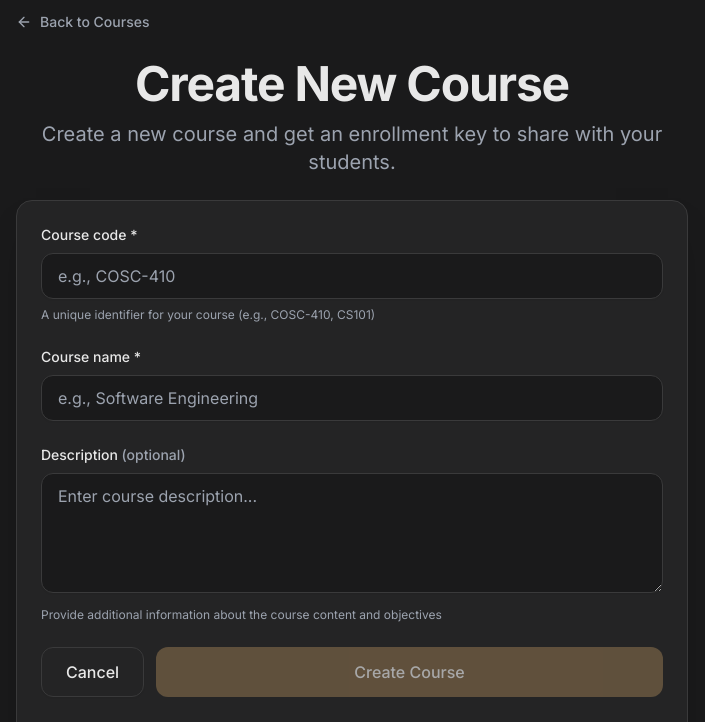
Test: CreateCoursePage › handles API error
The image size is (705, 722).
Type "COSC-300" into the field labelled "Course code *" at x=352, y=276, box x1=41 y1=253 x2=663 y2=299
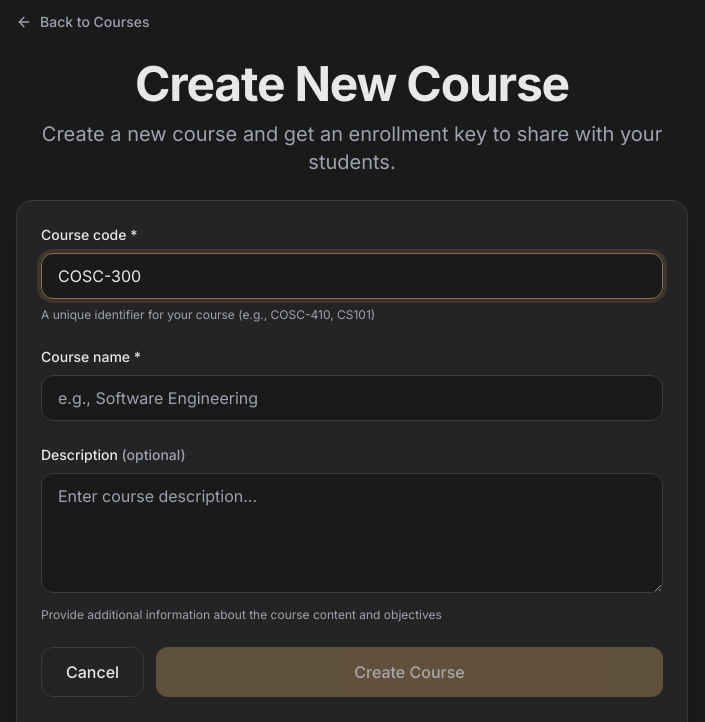
Type "Data Structures" into the field labelled "Course name *" at x=352, y=398, box x1=41 y1=375 x2=663 y2=421
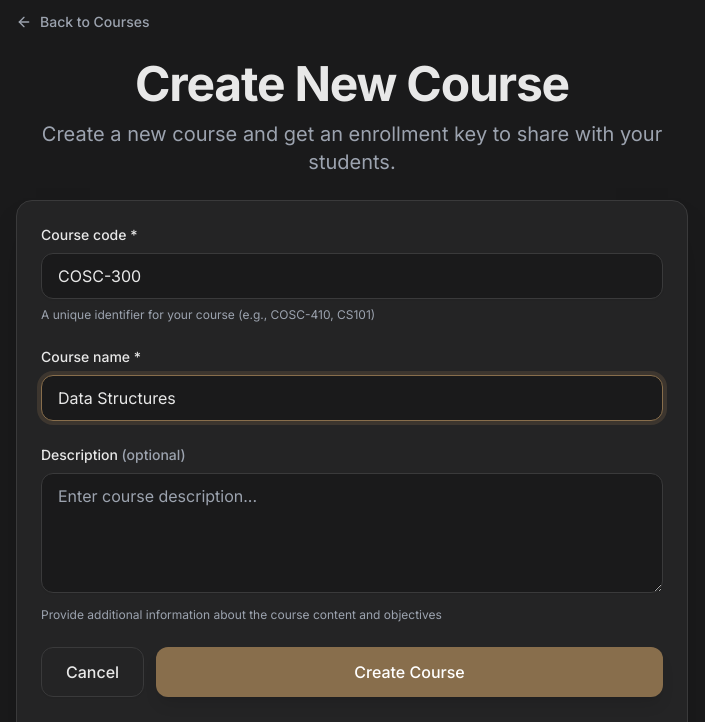
Click the button "Create Course" at x=410, y=672, box x1=156 y1=647 x2=663 y2=697
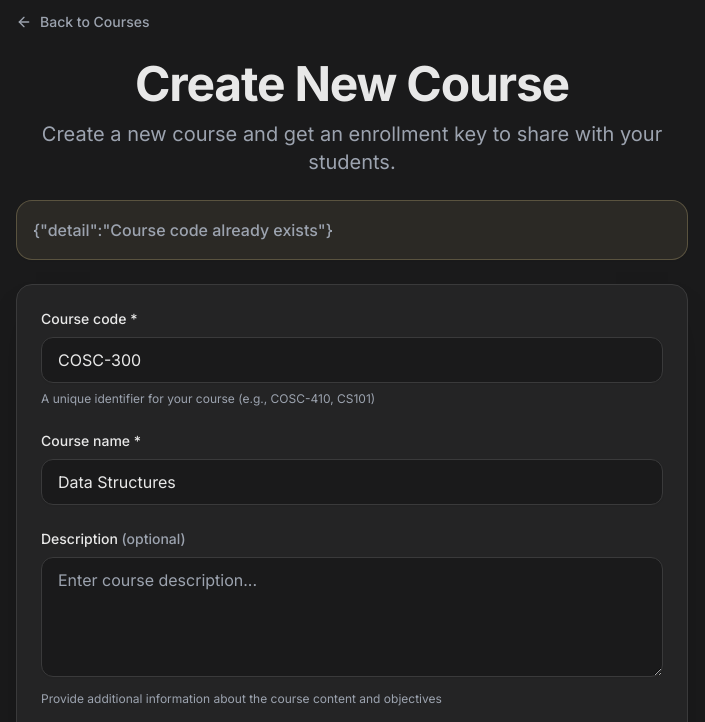
Expected: the text "{\"detail\":\"Course code already exists\"}" is shown, x1=33 y1=220 x2=333 y2=240
